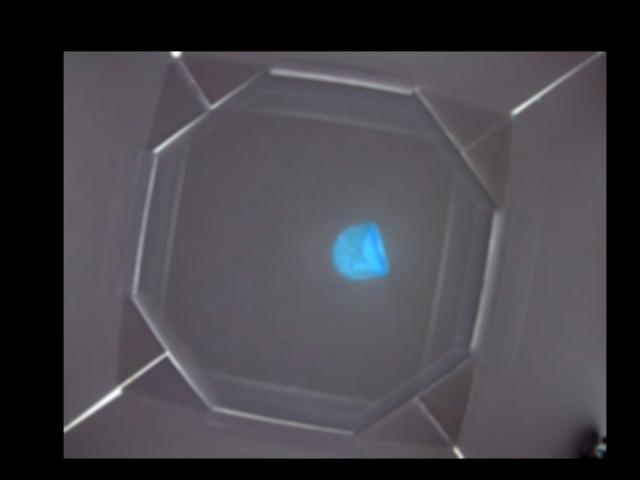Carrot: (332, 223, 386, 279)
